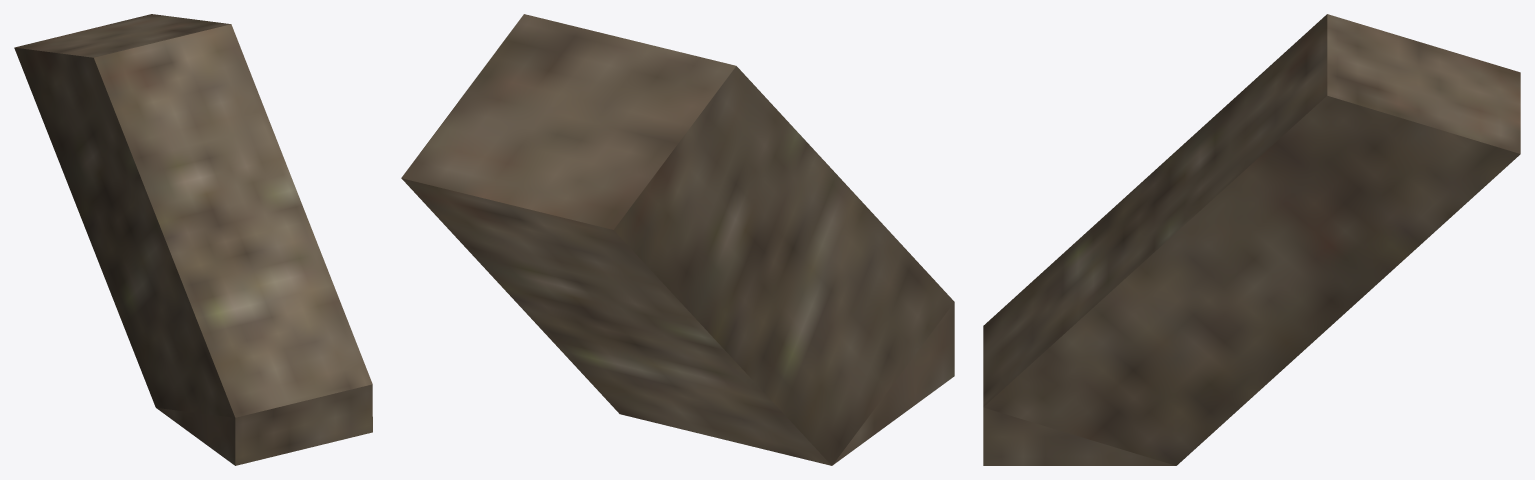
The model's file is whitebeam_branch_45_straight.obj.
3 renders of one model, left to right at view 1: azimuth 30°, elevation 25°; view 2: azimuth 150°, elevation 25°; view 3: azimuth 270°, elevation 25°, orthographic. The views are drawn at different scales.
Parts seen in each view (by area): view 1: cube; view 2: cube; view 3: cube.
Part boxes in pixels (x1,y1,x2,y2): cube: [14, 14, 372, 465]; cube: [401, 14, 954, 465]; cube: [983, 14, 1520, 465].
Bounding box in the file's own units: 0.5615 × 1.19 × 1.56.
